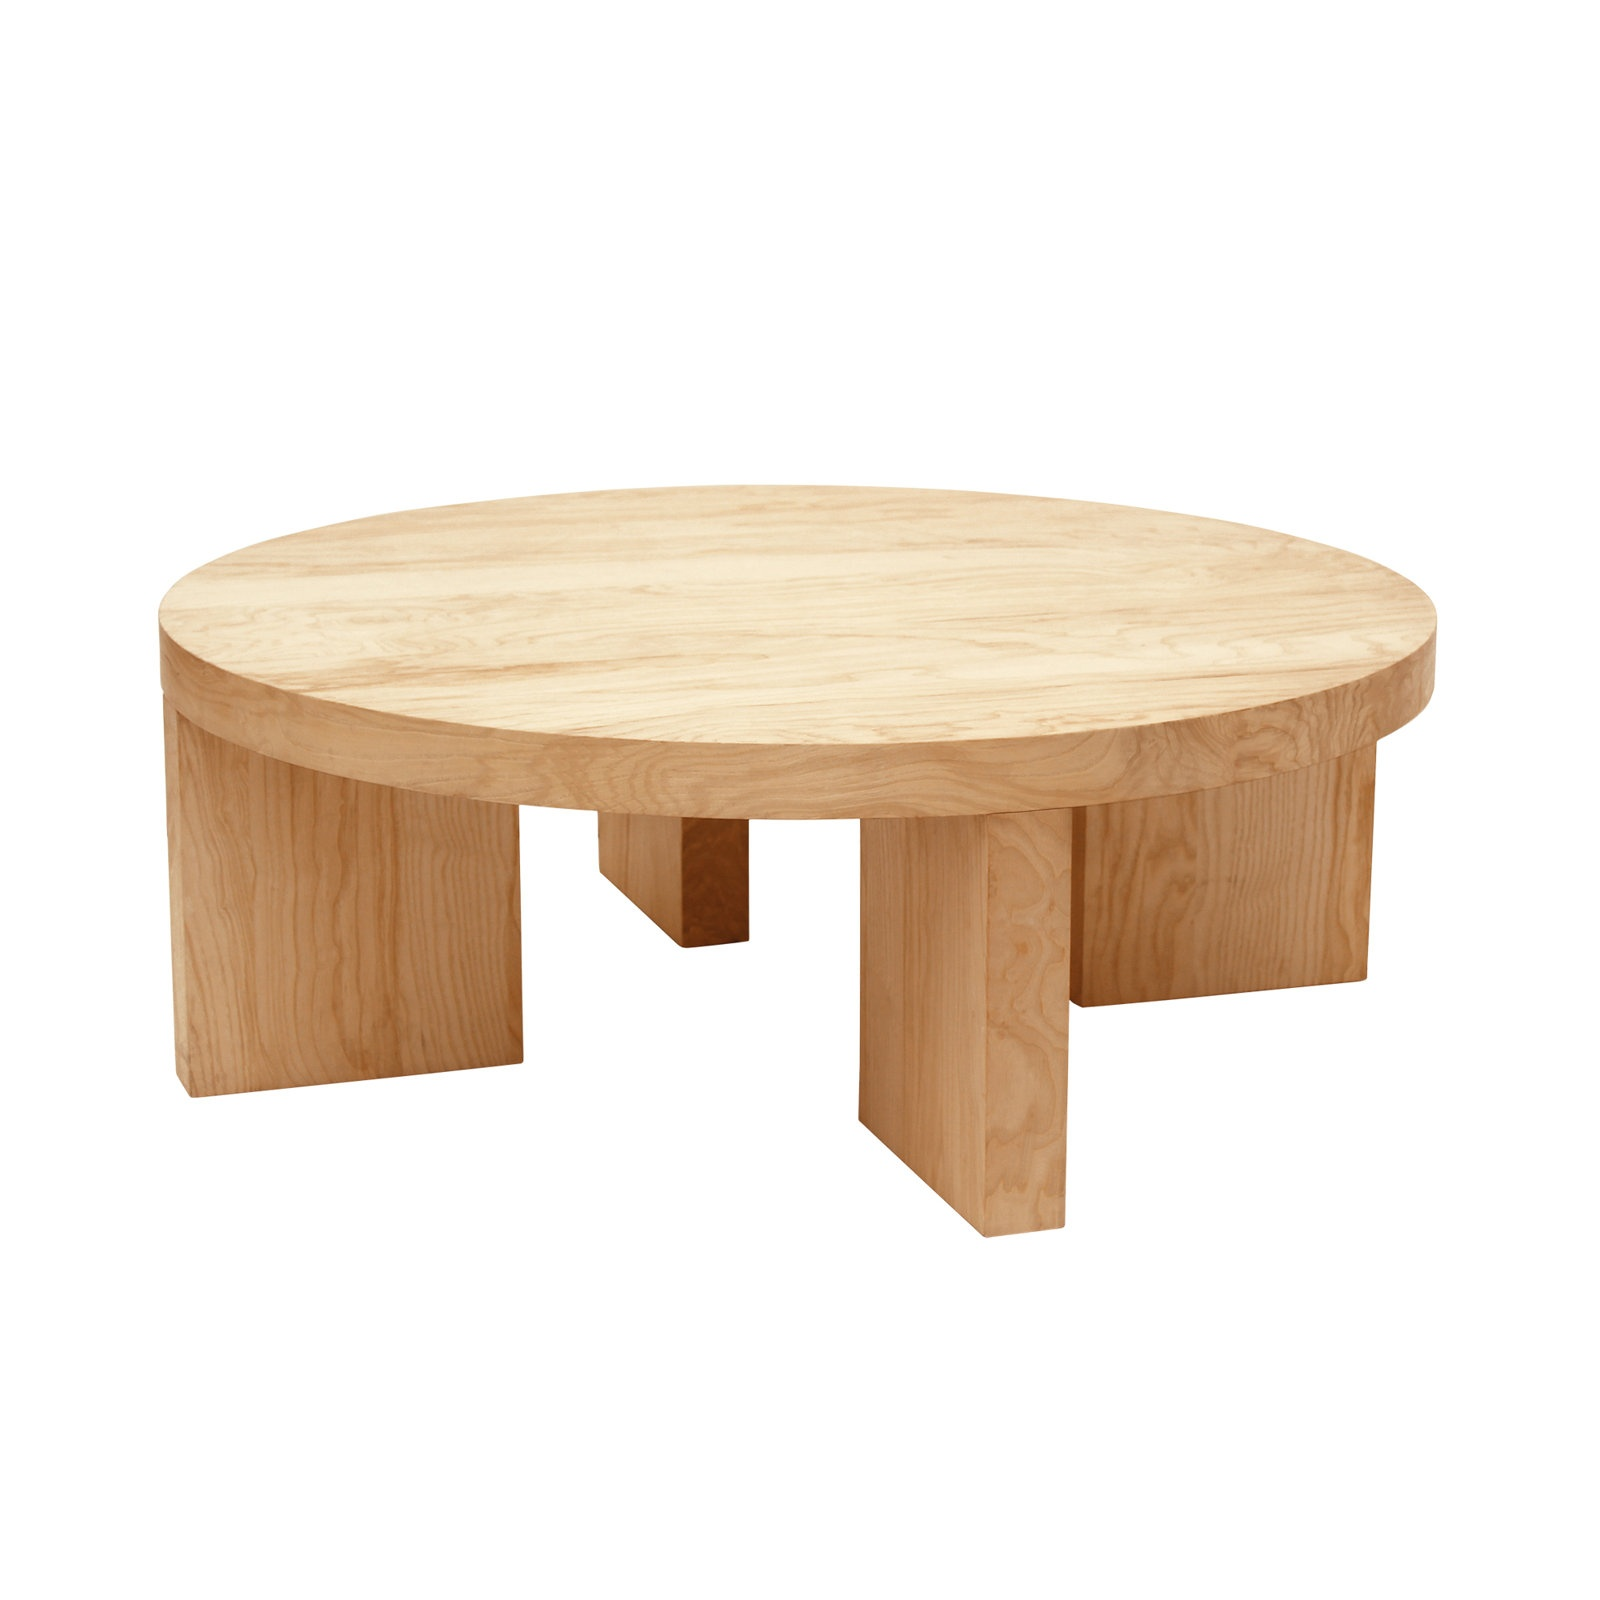obstacle: (160, 486, 1434, 1234)
